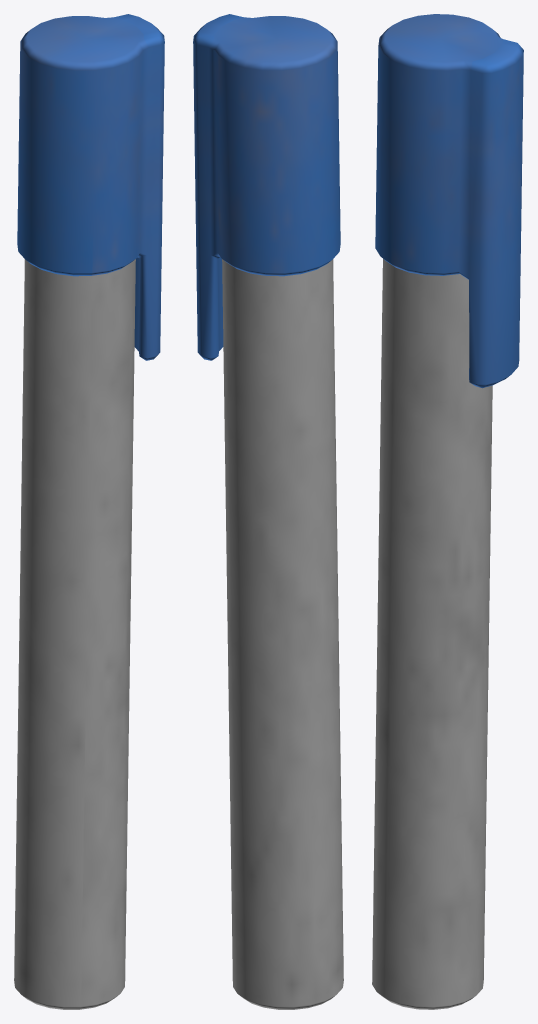
Rendered from SM_Marker_Pen_3.fbx.
The picture shows the model from 3 angles, left to right: view 1: azimuth 30°, elevation 25°; view 2: azimuth 150°, elevation 25°; view 3: azimuth 330°, elevation 25°; orthographic projection.
Parts seen in each view (by area): view 1: SM_Marker_Pen_3_LOD0; view 2: SM_Marker_Pen_3_LOD0; view 3: SM_Marker_Pen_3_LOD0.
Boxes of the visible parts, x1,y1,x2,y2 form: SM_Marker_Pen_3_LOD0: [14, 14, 164, 1009]; SM_Marker_Pen_3_LOD0: [193, 14, 343, 1009]; SM_Marker_Pen_3_LOD0: [372, 14, 523, 1009].
Bounding box in the file's own units: 1.31 × 1.04 × 8.75.
Materials: 1 (1 with a texture image).
